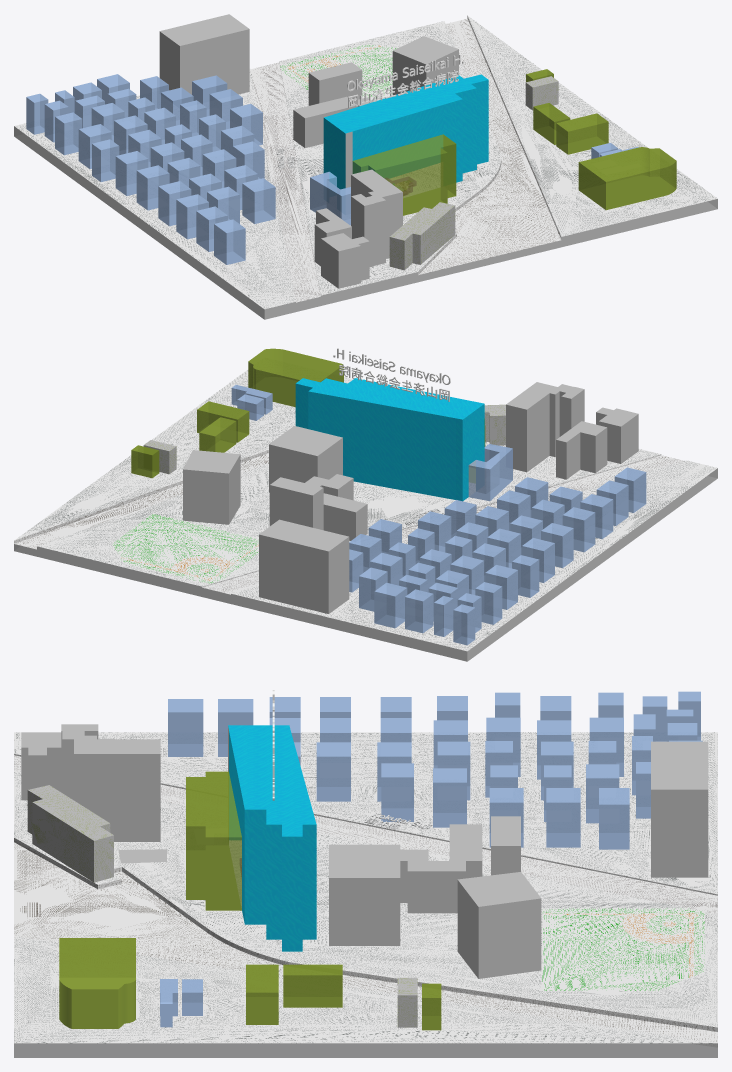
The model's file is MinamikataCorrectPosition.fbx.
3 renders of one model, top to bottom at view 1: azimuth 30°, elevation 25°; view 2: azimuth 150°, elevation 25°; view 3: azimuth 270°, elevation 25°, orthographic. The views are drawn at different scales.
Parts seen in each view (by area): view 1: SketchUp.038, SketchUp.075, SketchUp.115, SketchUp.076, SketchUp.074, SketchUp.113, SketchUp.114, SketchUp.048, SketchUp.035, SketchUp.047, SketchUp.023, SketchUp.036 (+45 smaller); view 2: SketchUp.038, SketchUp.074, SketchUp.113, SketchUp.075, SketchUp.048, SketchUp.076, SketchUp.023, SketchUp.054, SketchUp.046, SketchUp.022, SketchUp.047, SketchUp.115 (+50 smaller); view 3: SketchUp.074, SketchUp.075, SketchUp.076, SketchUp.115, SketchUp.038, SketchUp.113, SketchUp.054, SketchUp.023, SketchUp.046, SketchUp.048, SketchUp.022, SketchUp.114 (+49 smaller).
Boxes of the visible parts, <box> form: SketchUp.038: <box>323,74,488,189</box>; SketchUp.075: <box>468,16,717,236</box>; SketchUp.115: <box>418,15,561,274</box>; SketchUp.076: <box>14,68,295,309</box>; SketchUp.074: <box>279,21,501,295</box>; SketchUp.113: <box>14,126,717,319</box>; SketchUp.114: <box>250,61,320,302</box>; SketchUp.048: <box>159,14,249,94</box>; SketchUp.035: <box>352,134,456,215</box>; SketchUp.047: <box>578,147,676,210</box>; SketchUp.023: <box>351,169,402,267</box>; SketchUp.036: <box>389,202,455,270</box>; SketchUp.038: <box>295,378,484,501</box>; SketchUp.074: <box>37,442,660,586</box>; SketchUp.113: <box>14,468,717,661</box>; SketchUp.075: <box>14,369,353,540</box>; SketchUp.048: <box>259,519,349,613</box>; SketchUp.076: <box>231,460,717,651</box>; SketchUp.023: <box>506,382,584,472</box>; SketchUp.054: <box>112,513,258,568</box>; SketchUp.046: <box>183,450,240,524</box>; SketchUp.022: <box>269,426,342,492</box>; SketchUp.047: <box>248,348,343,407</box>; SketchUp.115: <box>14,450,268,549</box>; SketchUp.074: <box>14,771,717,1027</box>; SketchUp.075: <box>14,936,716,1043</box>; SketchUp.076: <box>14,732,717,894</box>; SketchUp.115: <box>14,838,717,1047</box>; SketchUp.038: <box>228,725,316,951</box>; SketchUp.113: <box>14,1043,717,1057</box>; SketchUp.054: <box>542,915,688,990</box>; SketchUp.023: <box>61,724,160,841</box>; SketchUp.046: <box>457,872,541,978</box>; SketchUp.048: <box>651,741,708,877</box>; SketchUp.022: <box>329,844,400,945</box>; SketchUp.114: <box>14,754,717,914</box>.
Bounding box in the file's own units: 1915 × 515 × 1833.
